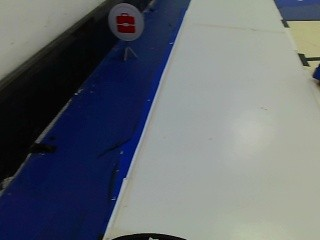company: (101, 0, 147, 44)
